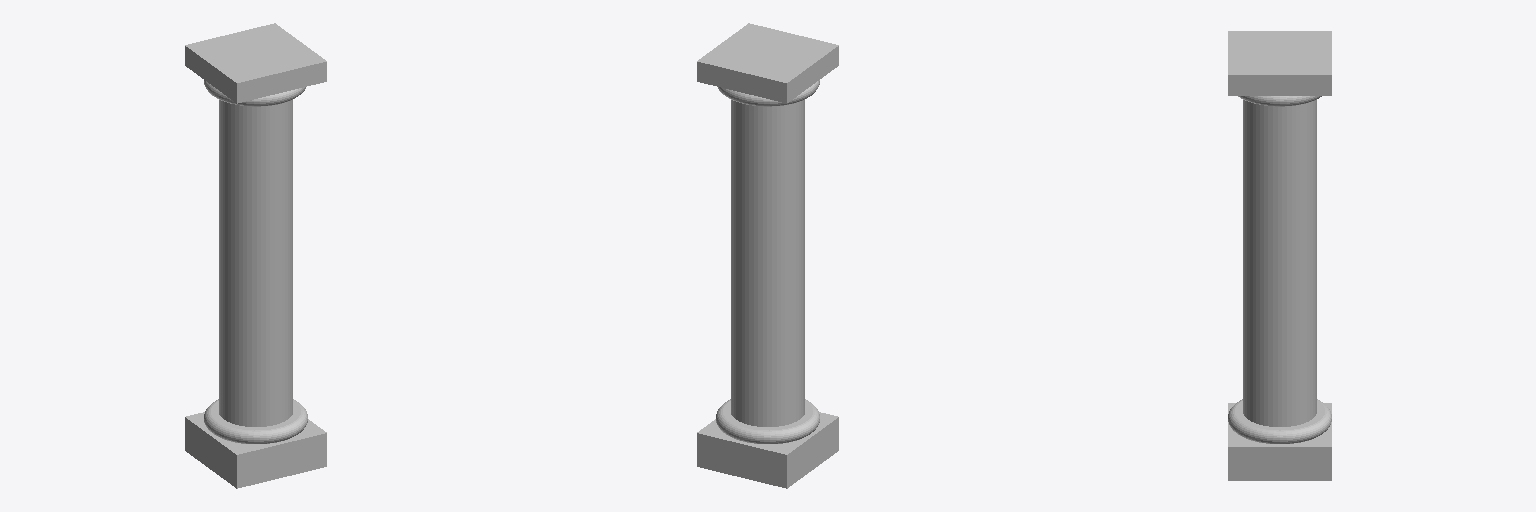
File: collumn.obj
3 views of the same model, side by side, from view 1: azimuth 30°, elevation 25°; view 2: azimuth 150°, elevation 25°; view 3: azimuth 270°, elevation 25° (orthographic).
Visible parts, largest first — view 1: Cube.001; view 2: Cube.001; view 3: Cube.001.
Boxes of the visible parts, <box> form: Cube.001: <box>185,23,326,488</box>; Cube.001: <box>697,23,838,488</box>; Cube.001: <box>1228,31,1331,480</box>.
Size of the model in its own units: 0.7 by 3 by 0.7.